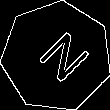N_SW: (24, 24, 88, 89)
